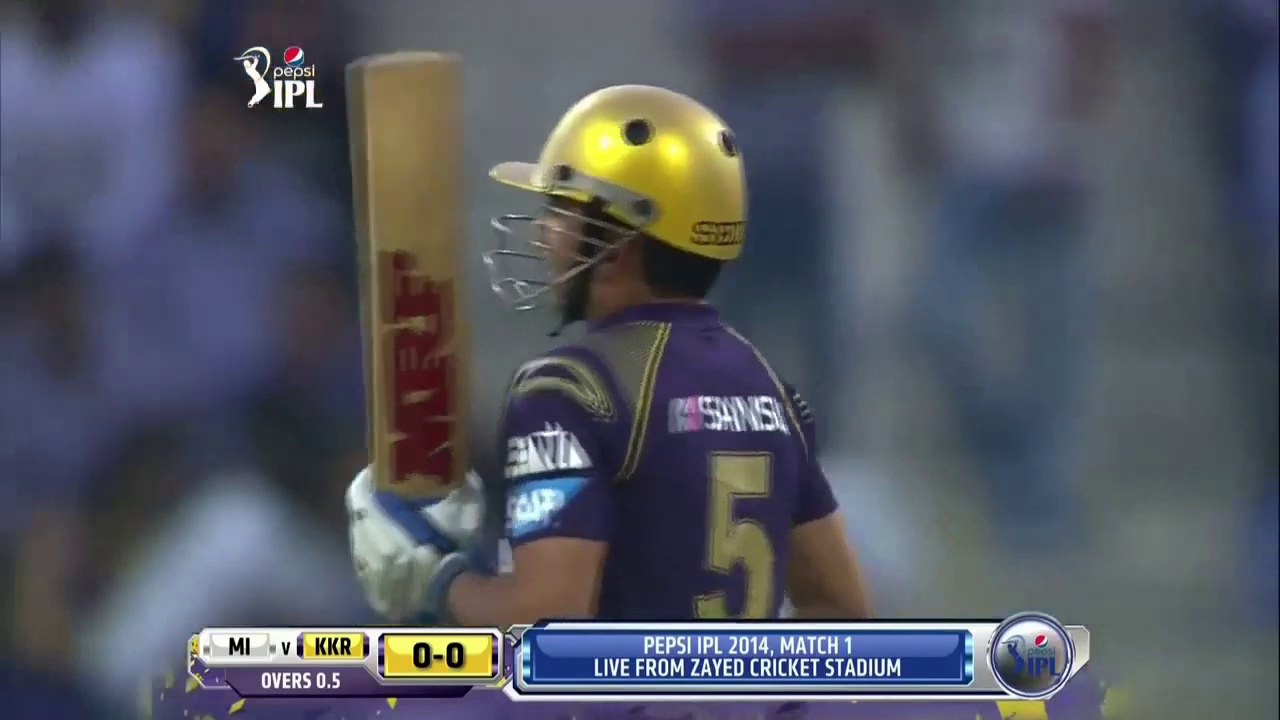bat: (364, 48, 470, 469)
